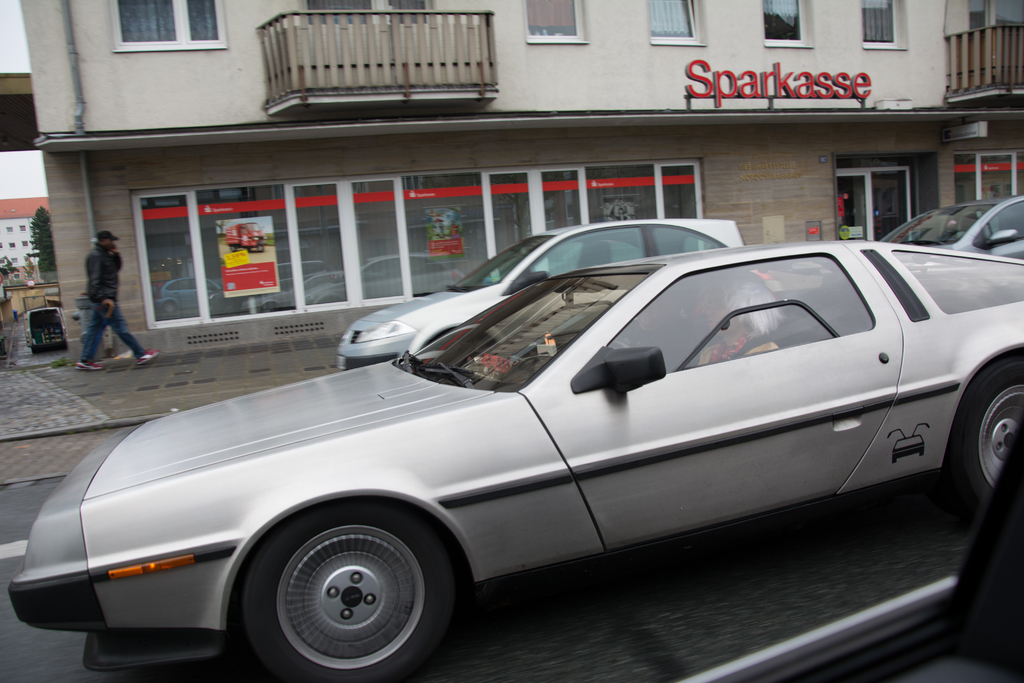person: (699, 264, 786, 340)
